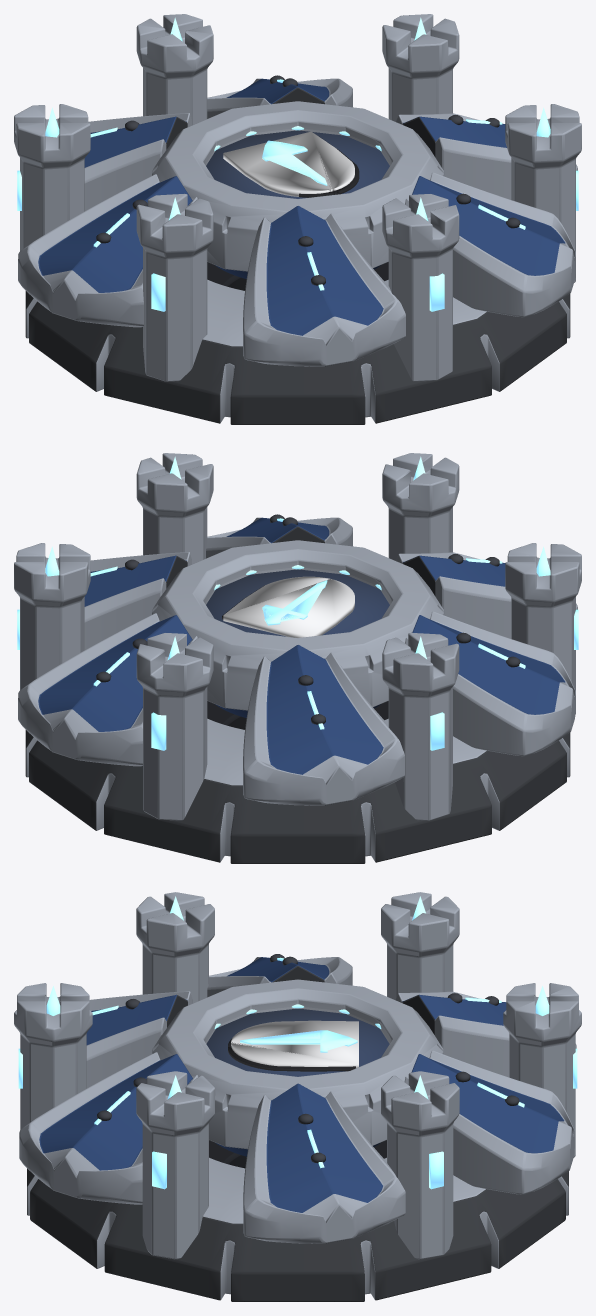
Rendered from bollwerk.glb.
The picture shows the model from 3 angles, top to bottom: view 1: azimuth 30°, elevation 25°; view 2: azimuth 150°, elevation 25°; view 3: azimuth 270°, elevation 25°; orthographic projection.
Parts seen in each view (by area): view 1: Sockel, Fassung, Schild.004, Schild.005, Schild.003, Turm.003, Turm.004, Turm.002, Turm.005, Turm.001, Turm, Schild.002 (+9 smaller); view 2: Sockel, Fassung, Schild.002, Schild.003, Schild.001, Turm.001, Turm.002, Turm, Turm.003, Turm.005, Turm.004, Schild (+9 smaller); view 3: Sockel, Fassung, Schild, Schild.001, Schild.005, Turm.005, Turm, Turm.004, Turm.001, Turm.003, Turm.002, Schild.004 (+10 smaller).
Boxes of the visible parts, x1=… form: Sockel: x1=25, y1=279, x2=570, y2=424; Fassung: x1=152, y1=101, x2=443, y2=271; Schild.004: x1=243, y1=206, x2=405, y2=366; Schild.005: x1=405, y1=172, x2=575, y2=317; Schild.003: x1=18, y1=174, x2=197, y2=327; Turm.003: x1=136, y1=193, x2=213, y2=381; Turm.004: x1=382, y1=194, x2=459, y2=381; Turm.002: x1=14, y1=104, x2=90, y2=250; Turm.005: x1=505, y1=104, x2=581, y2=282; Turm.001: x1=136, y1=14, x2=213, y2=125; Turm: x1=382, y1=14, x2=459, y2=121; Schild.002: x1=84, y1=113, x2=191, y2=210; Sockel: x1=25, y1=718, x2=570, y2=863; Fassung: x1=152, y1=540, x2=443, y2=710; Schild.002: x1=243, y1=645, x2=404, y2=805; Schild.003: x1=405, y1=611, x2=575, y2=756; Schild.001: x1=18, y1=613, x2=197, y2=766; Turm.001: x1=136, y1=633, x2=213, y2=820; Turm.002: x1=382, y1=632, x2=459, y2=820; Turm: x1=14, y1=543, x2=90, y2=689; Turm.003: x1=505, y1=543, x2=581, y2=714; Turm.005: x1=136, y1=453, x2=213, y2=564; Turm.004: x1=382, y1=453, x2=459, y2=560; Schild: x1=84, y1=552, x2=191, y2=649; Sockel: x1=27, y1=1157, x2=568, y2=1301; Fassung: x1=152, y1=979, x2=443, y2=1149; Schild: x1=243, y1=1083, x2=405, y2=1243; Schild.001: x1=404, y1=1050, x2=574, y2=1194; Schild.005: x1=19, y1=1052, x2=197, y2=1204; Turm.005: x1=136, y1=1071, x2=215, y2=1259; Turm: x1=381, y1=1071, x2=459, y2=1259; Turm.004: x1=14, y1=983, x2=92, y2=1129; Turm.001: x1=503, y1=983, x2=581, y2=1157; Turm.003: x1=136, y1=892, x2=214, y2=1003; Turm.002: x1=381, y1=892, x2=459, y2=999; Schild.004: x1=86, y1=991, x2=192, y2=1088.
Bounding box in the file's own units: 0.4857 × 0.184 × 0.4575.
